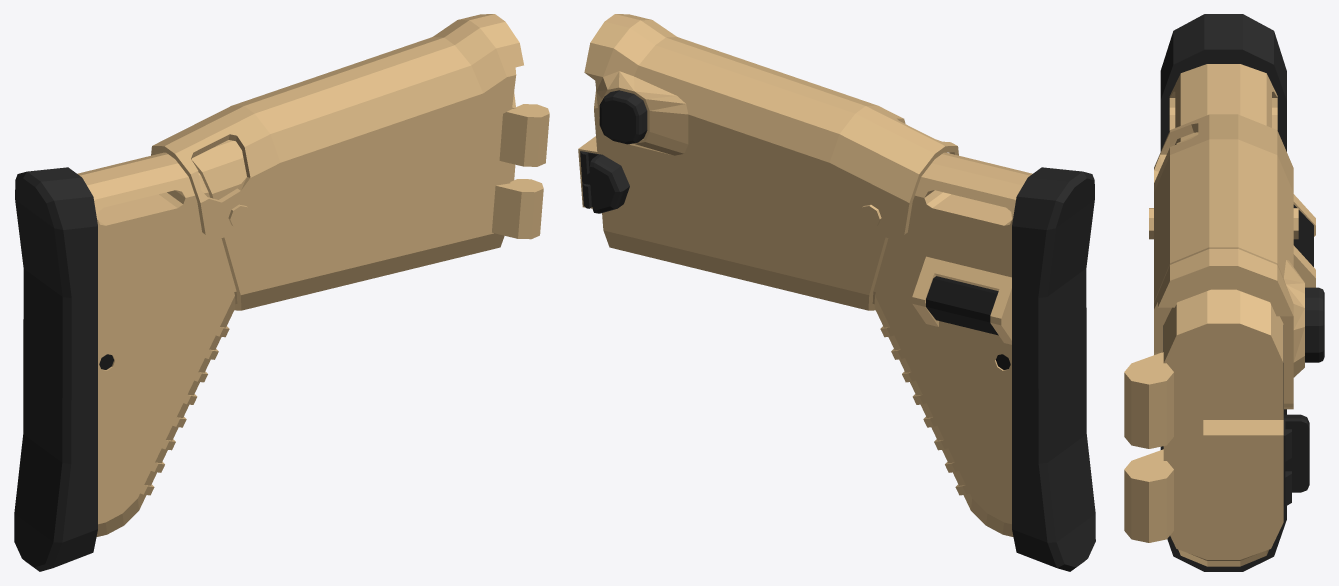
Rendered from fn_scar_h_std_stock.glb.
3 renders of one model, left to right at view 1: azimuth 30°, elevation 25°; view 2: azimuth 150°, elevation 25°; view 3: azimuth 270°, elevation 25°, orthographic. The views are drawn at different scales.
Visible parts, largest first — view 1: scarhstd stock butt_8 (×2), scarhstd stock cheek_7, scarhstd stock_9; view 2: scarhstd stock butt_8 (×3), scarhstd stock cheek_7 (×2), scarhstd stock_9 (×2); view 3: scarhstd stock_9 (×2), scarhstd stock cheek_7 (×2), scarhstd stock butt_8 (×3).
Boxes of the visible parts, bbox=[...] form: scarhstd stock butt_8 (×2): bbox=[14, 152, 237, 571]; scarhstd stock cheek_7: bbox=[151, 14, 523, 239]; scarhstd stock_9: bbox=[191, 92, 549, 310]; scarhstd stock butt_8 (×3): bbox=[872, 152, 1095, 571]; scarhstd stock cheek_7 (×2): bbox=[584, 14, 958, 239]; scarhstd stock_9 (×2): bbox=[578, 90, 888, 310]; scarhstd stock_9 (×2): bbox=[1124, 134, 1309, 559]; scarhstd stock cheek_7 (×2): bbox=[1149, 114, 1324, 409]; scarhstd stock butt_8 (×3): bbox=[1160, 14, 1315, 571].
Size of the model in its own units: 2.05 by 1.73 by 0.5231.
